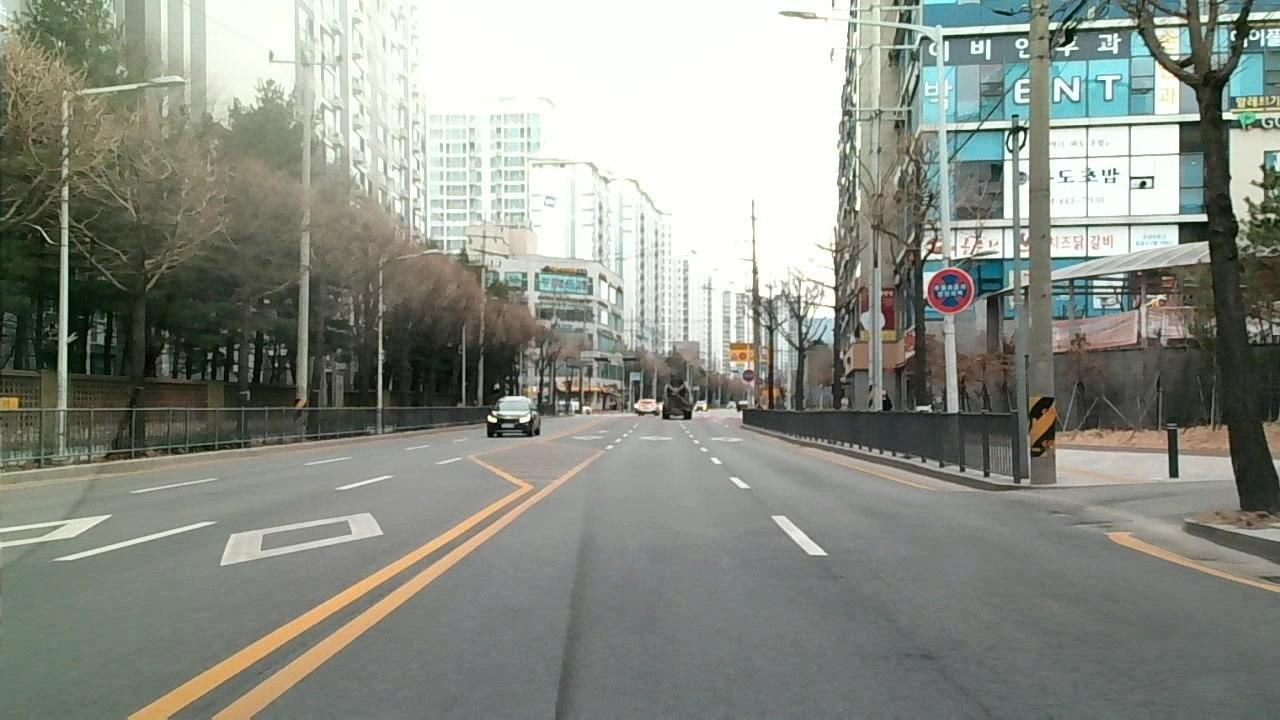vcrack: (923, 652, 997, 714)
